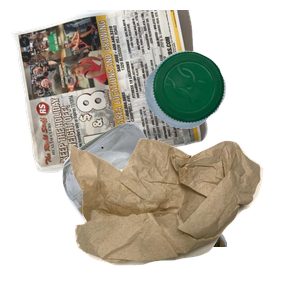glass: (60, 120, 300, 300)
paper: (10, 10, 210, 175)
plastic: (142, 48, 300, 169)
trash: (67, 136, 300, 300)
